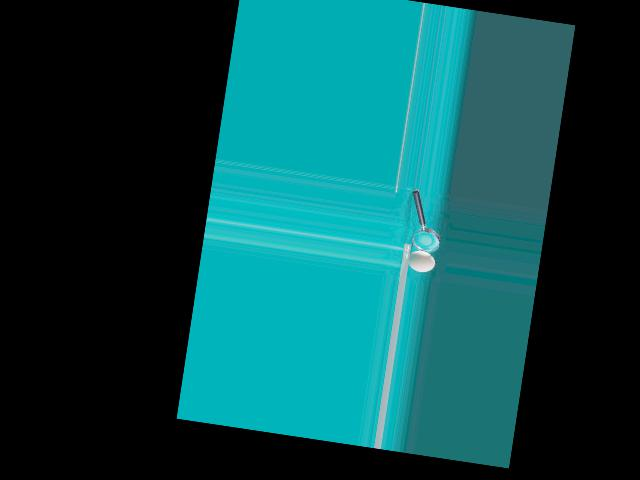egg: (406, 249, 436, 274)
